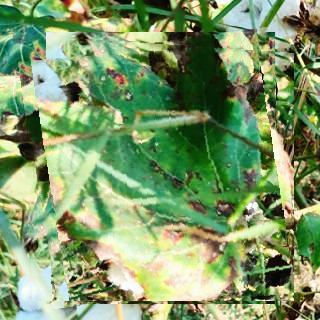blight: (26, 35, 294, 301)
